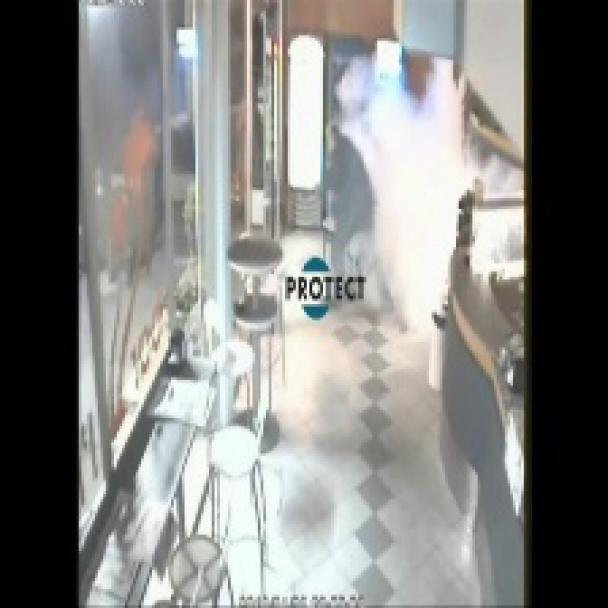smoke: (309, 52, 527, 370)
